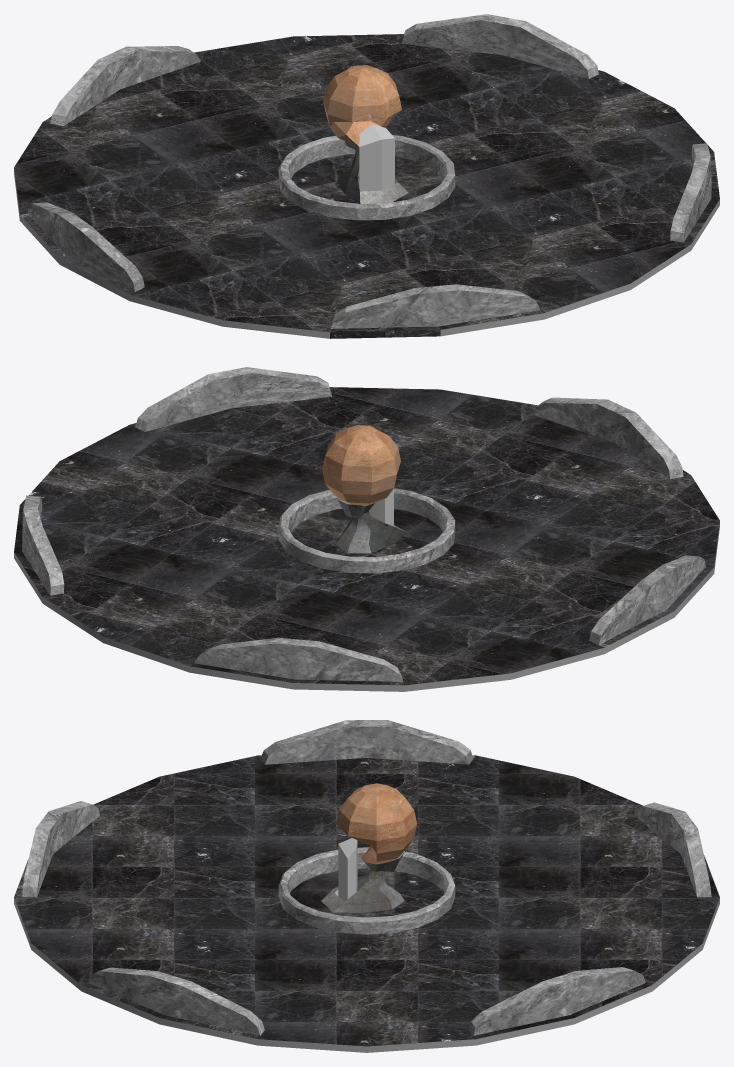
Rendered from Fountain.fbx.
3 views of the same model, one above another, from view 1: azimuth 30°, elevation 25°; view 2: azimuth 150°, elevation 25°; view 3: azimuth 270°, elevation 25° (orthographic).
Visible parts, largest first — view 1: pCylinder2; view 2: pCylinder2; view 3: pCylinder2.
Part boxes in pixels (x1=…): pCylinder2: x1=14, y1=14, x2=719, y2=338; pCylinder2: x1=14, y1=367, x2=719, y2=691; pCylinder2: x1=14, y1=720, x2=719, y2=1052.
Bounding box in the file's own units: 3.6 × 0.658 × 3.6.
